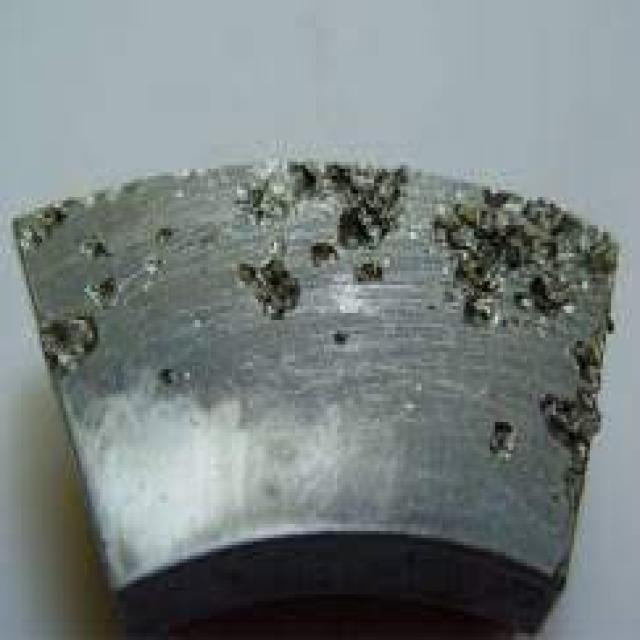Pitting Corrosion: (432, 184, 616, 511), (229, 166, 419, 327), (12, 198, 123, 385), (138, 219, 191, 284), (487, 415, 516, 459), (157, 358, 183, 391), (330, 326, 353, 353)
